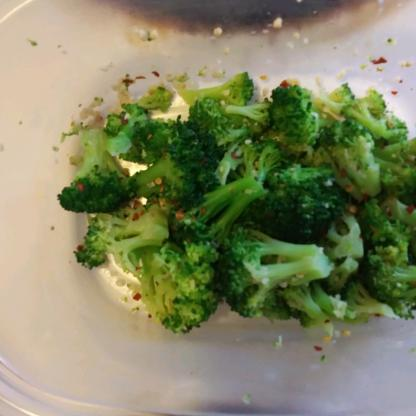broccoli: (56, 66, 416, 338)
